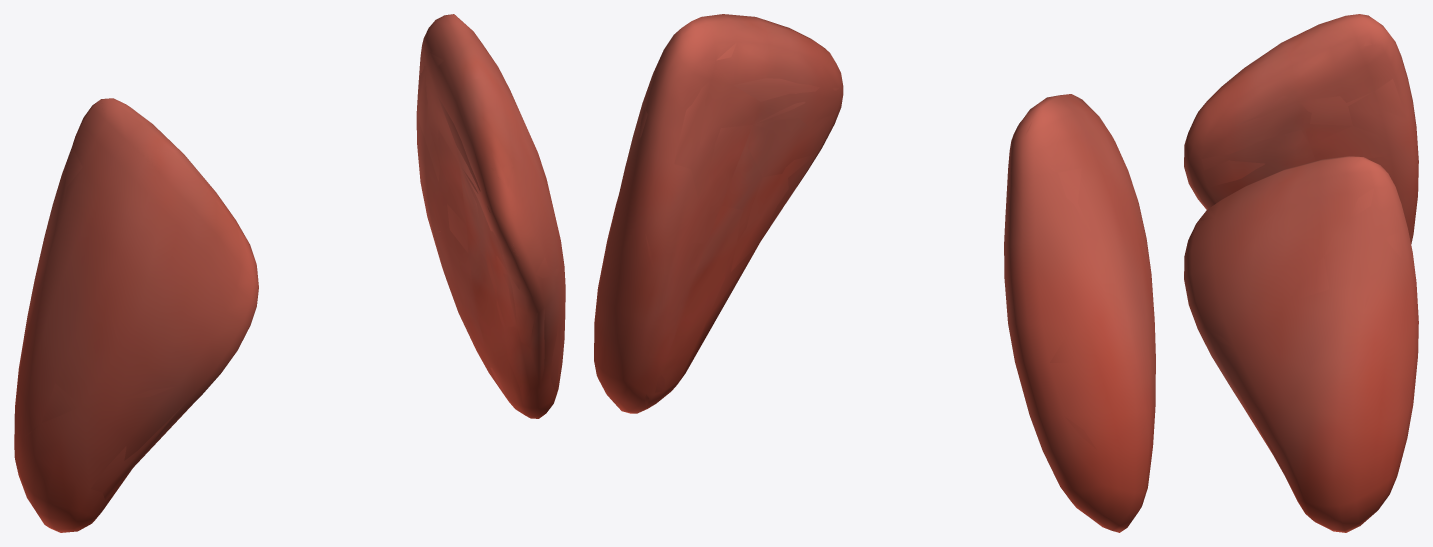
File: Temporalis.fbx
3 renders of one model, left to right at view 1: azimuth 30°, elevation 25°; view 2: azimuth 150°, elevation 25°; view 3: azimuth 270°, elevation 25°, orthographic. The views are drawn at different scales.
Parts seen in each view (by area): view 1: Temporalis, Temporalis low; view 2: Temporalis, Temporalis low; view 3: Temporalis, Temporalis low.
Boxes of the visible parts, x1,y1,x2,y2 form: Temporalis: (14,14,565,532); Temporalis low: (24,14,560,528); Temporalis: (594,14,1155,532); Temporalis low: (639,24,1155,498); Temporalis: (1184,14,1418,532); Temporalis low: (1189,15,1405,497).
Bounding box in the file's own units: 7 × 5.19 × 3.18.
Materials: 1 (1 with a texture image).
